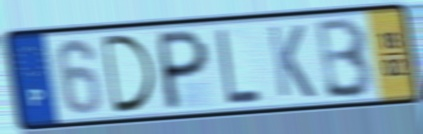6: (53, 36, 103, 117)
B: (314, 14, 376, 101)
D: (98, 32, 159, 116)
K: (265, 23, 318, 100)
L: (214, 26, 264, 106)
P: (157, 26, 211, 113)
